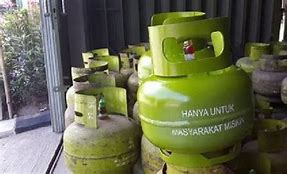gas_ijo: (138, 13, 251, 164), (60, 87, 132, 173), (64, 74, 119, 133), (70, 50, 121, 95), (253, 112, 287, 174), (252, 54, 287, 107), (237, 41, 271, 74)
